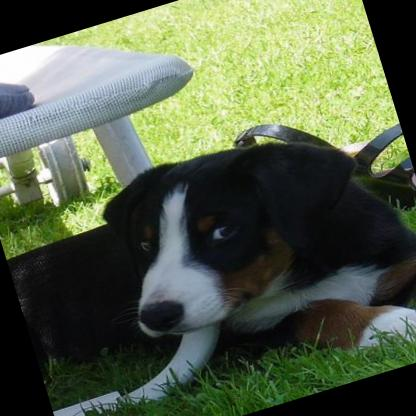Appenzeller: (0, 94, 416, 416)
